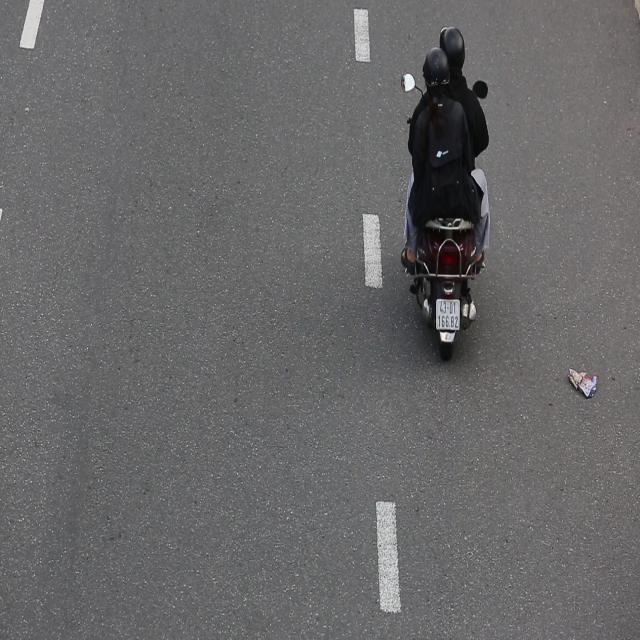motorbike: (396, 4, 500, 382)
